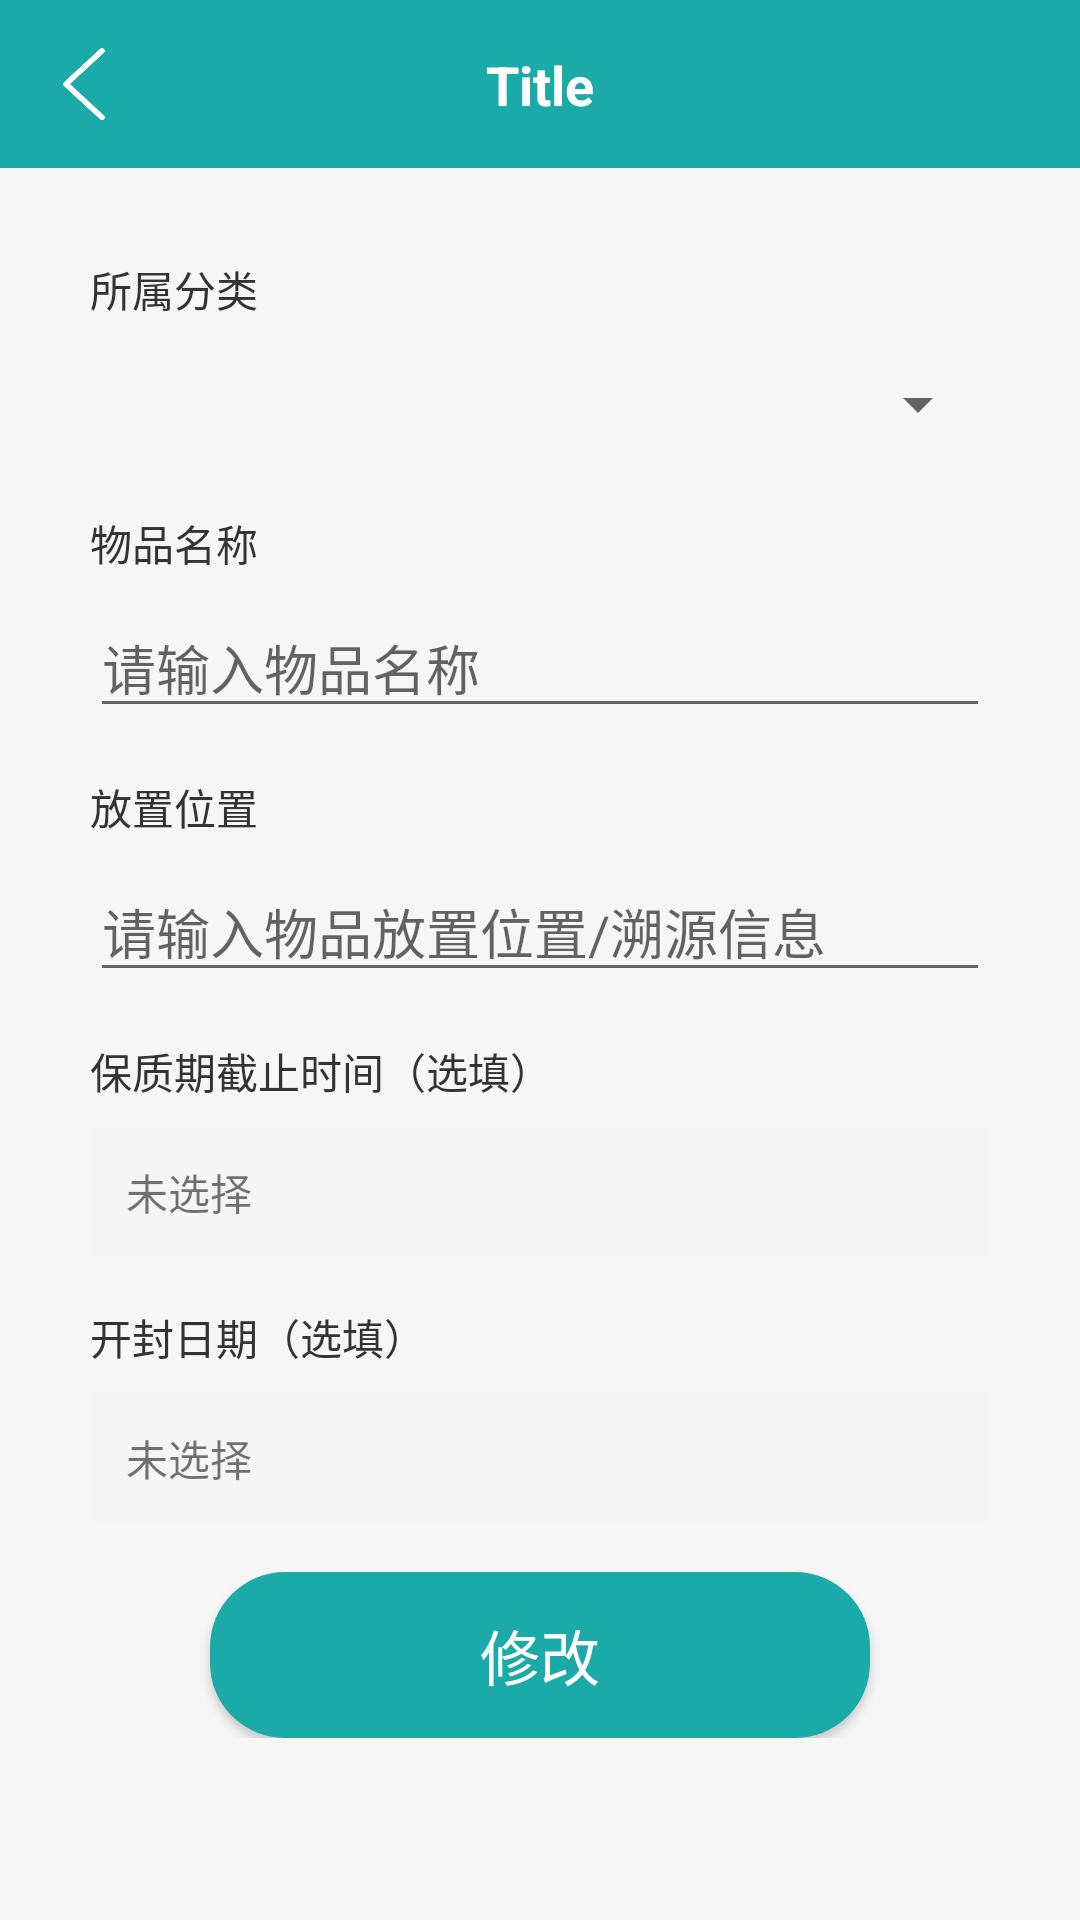

Icon click points for this 1080 x 1920 phone screenshot, format point (x, y):
back: point (84, 84)
